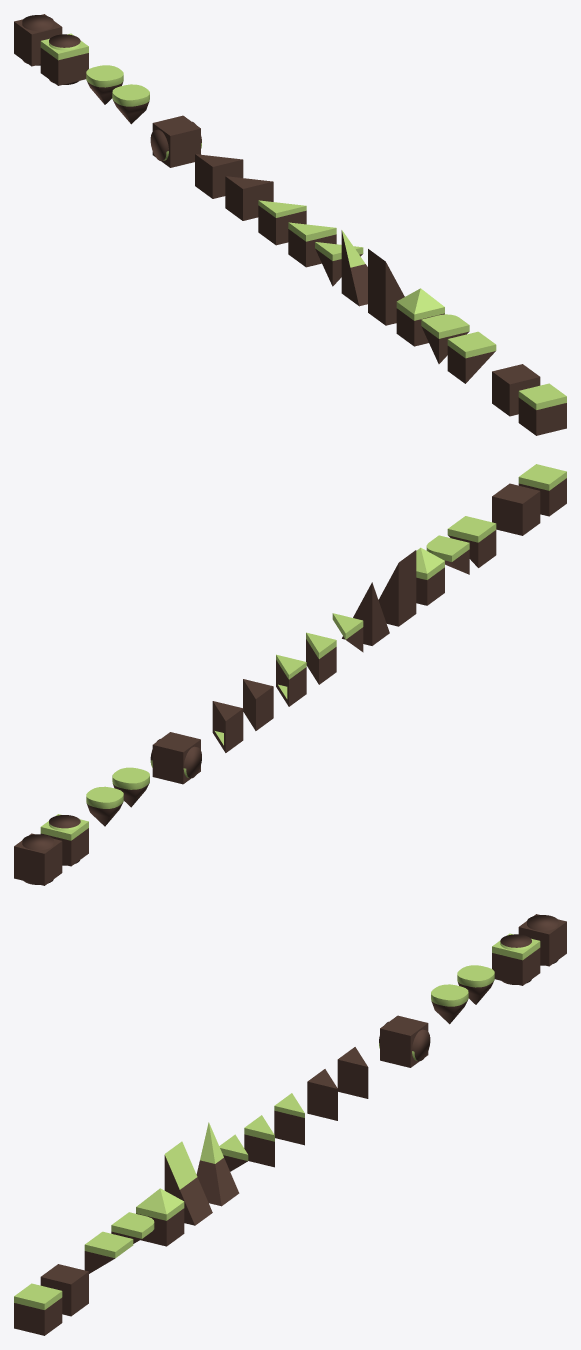
File: Tiles 01.dae
The picture shows the model from 3 angles, top to bottom: view 1: azimuth 30°, elevation 25°; view 2: azimuth 150°, elevation 25°; view 3: azimuth 330°, elevation 25°; orthographic projection.
Visible parts, largest first — view 1: 01 Ground Base -col, 05 Wall Slanted -col, 02 Ground Edge -col, 04 Ground Spike -col, 13 Ground Hole -col, 10 Ground Block Hollow -col, 09 Ground Triangle Block -col, 01b Ground Block -col, 09b Ground Triangle Block Hollow -col, 09b Ground Triangle Hollow -col.001, 08 Ground Trinagle 2 -col, 06 Wall Slanted Corner -col (+5 smaller); view 2: 01b Ground Block -col, 05 Wall Slanted -col, 14 Ground Block Hole -col, 10 Ground Block Hollow -col, 01 Ground Base -col, 02 Ground Edge -col, 04 Ground Spike -col, 09b Ground Triangle Block Hollow -col, 08 Ground Trinagle 2 -col, 09 Ground Triangle Block -col, 09b Ground Triangle Hollow -col.001, 06 Wall Slanted Corner -col (+5 smaller); view 3: 05 Wall Slanted -col, 01 Ground Base -col, 06 Wall Slanted Corner -col, 04 Ground Spike -col, 13 Ground Hole -col, 10 Ground Block Hollow -col, 01b Ground Block -col, 09b Ground Triangle Block Hollow -col, 09 Ground Triangle Block -col, 09b Ground Triangle Hollow -col.001, 02 Ground Edge -col, 08 Ground Trinagle 2 -col (+5 smaller).
Part boxes in pixels (left/top/right/bottom): 01 Ground Base -col: left=518, top=383, right=566, bottom=435; 05 Wall Slanted -col: left=368, top=249, right=404, bottom=325; 02 Ground Edge -col: left=447, top=331, right=496, bottom=383; 04 Ground Spike -col: left=396, top=288, right=444, bottom=346; 13 Ground Hole -col: left=40, top=33, right=88, bottom=85; 10 Ground Block Hollow -col: left=152, top=115, right=200, bottom=167; 09 Ground Triangle Block -col: left=225, top=176, right=273, bottom=220; 01b Ground Block -col: left=492, top=364, right=540, bottom=416; 09b Ground Triangle Block Hollow -col: left=195, top=154, right=243, bottom=198; 09b Ground Triangle Hollow -col.001: left=258, top=200, right=306, bottom=245; 08 Ground Trinagle 2 -col: left=288, top=222, right=336, bottom=267; 06 Wall Slanted Corner -col: left=341, top=230, right=367, bottom=306; 01b Ground Block -col: left=492, top=483, right=540, bottom=535; 05 Wall Slanted -col: left=378, top=550, right=416, bottom=626; 14 Ground Block Hole -col: left=14, top=833, right=62, bottom=885; 10 Ground Block Hollow -col: left=152, top=732, right=200, bottom=784; 01 Ground Base -col: left=518, top=464, right=566, bottom=516; 02 Ground Edge -col: left=447, top=516, right=496, bottom=567; 04 Ground Spike -col: left=416, top=547, right=444, bottom=605; 09b Ground Triangle Block Hollow -col: left=212, top=701, right=243, bottom=752; 08 Ground Trinagle 2 -col: left=306, top=632, right=336, bottom=684; 09 Ground Triangle Block -col: left=243, top=679, right=273, bottom=730; 09b Ground Triangle Hollow -col.001: left=276, top=654, right=306, bottom=706; 06 Wall Slanted Corner -col: left=342, top=582, right=389, bottom=645; 05 Wall Slanted -col: left=164, top=1141, right=212, bottom=1225; 01 Ground Base -col: left=14, top=1283, right=62, bottom=1335; 06 Wall Slanted Corner -col: left=196, top=1122, right=239, bottom=1206; 04 Ground Spike -col: left=136, top=1188, right=184, bottom=1246; 13 Ground Hole -col: left=492, top=933, right=540, bottom=985; 10 Ground Block Hollow -col: left=380, top=1015, right=428, bottom=1067; 01b Ground Block -col: left=40, top=1264, right=88, bottom=1316; 09b Ground Triangle Block Hollow -col: left=337, top=1047, right=368, bottom=1098; 09 Ground Triangle Block -col: left=307, top=1069, right=337, bottom=1120; 09b Ground Triangle Hollow -col.001: left=274, top=1093, right=304, bottom=1145; 02 Ground Edge -col: left=84, top=1231, right=133, bottom=1273; 08 Ground Trinagle 2 -col: left=244, top=1115, right=274, bottom=1167.
Bounding box in the file's own units: 2.32 × 59 × 4.16.
